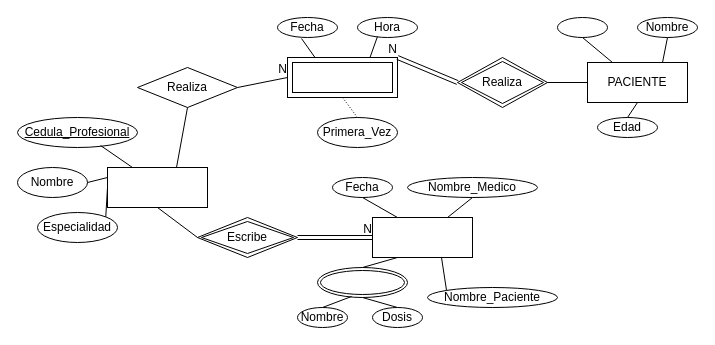
Some shapes in this 715 by 345 pixel diagram are drawn without their labels. The shapes that lost their labels are listed below. From the top down, each one's centre as x and y in pixels, then its label:
At pixel 582 27: "Curp".
At pixel 342 77: "VISITA_MEDICA".
At pixel 157 187: "MEDICO".
At pixel 422 237: "RECETA".
At pixel 362 282: "Medicamento".
